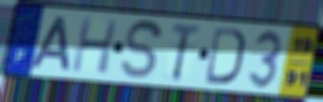3: (246, 28, 284, 90)
A: (28, 14, 72, 72)
D: (204, 25, 247, 87)
H: (70, 16, 120, 76)
S: (120, 18, 164, 82)
T: (170, 21, 203, 83)
